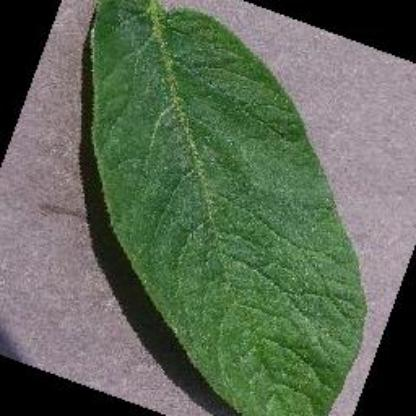Healthy-plant: (32, 2, 401, 416)
